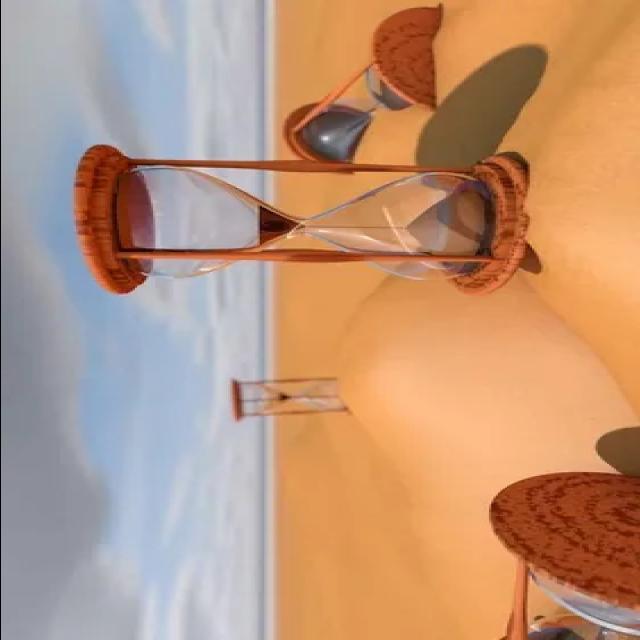clock: (59, 139, 542, 305)
